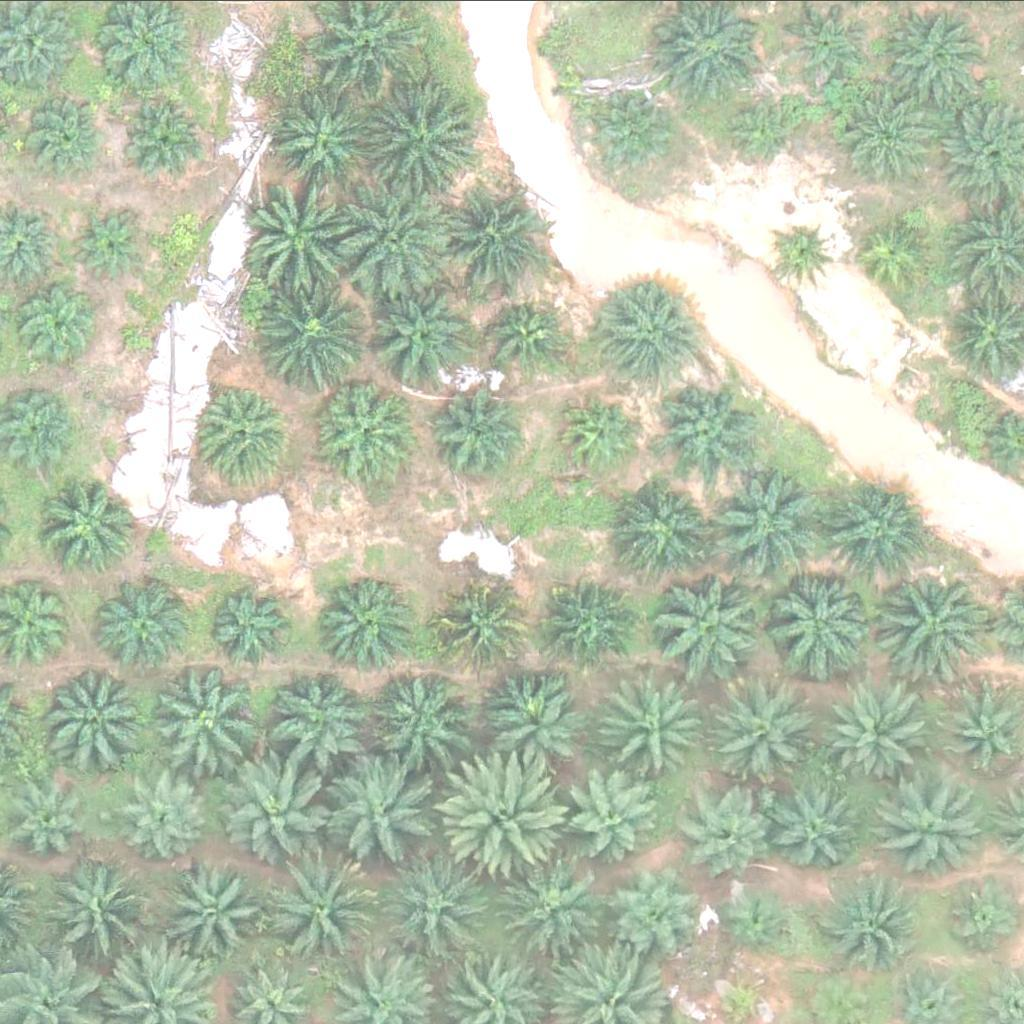Kelapa_Sawit: (441, 747, 567, 872), (365, 85, 479, 198), (319, 757, 433, 870), (48, 856, 162, 969), (707, 468, 820, 581), (651, 567, 764, 680), (762, 563, 875, 676), (267, 855, 380, 968), (379, 851, 492, 964), (261, 278, 374, 391), (150, 663, 263, 776), (225, 750, 338, 863), (35, 658, 149, 770), (340, 178, 453, 290), (874, 565, 987, 677), (244, 179, 357, 291), (370, 290, 471, 390), (890, 7, 991, 107), (828, 482, 929, 582), (312, 570, 413, 670), (371, 663, 472, 763), (608, 677, 709, 777), (720, 682, 821, 782), (828, 686, 929, 786), (500, 860, 601, 960), (601, 858, 702, 958), (271, 91, 372, 191), (42, 475, 143, 575), (164, 857, 265, 957), (815, 867, 916, 967), (445, 192, 545, 292), (605, 282, 705, 382), (838, 84, 938, 184), (313, 379, 413, 479), (658, 376, 758, 476), (278, 668, 378, 768), (478, 678, 578, 778), (880, 775, 980, 875), (198, 381, 298, 481), (98, 573, 198, 673), (592, 91, 680, 179), (430, 394, 518, 482), (625, 483, 713, 571), (436, 583, 524, 671), (688, 790, 776, 878), (125, 93, 213, 181), (205, 584, 293, 672), (775, 788, 864, 875), (544, 581, 632, 668), (568, 773, 656, 860), (11, 276, 99, 363), (15, 96, 103, 183), (19, 772, 107, 859), (124, 767, 212, 854), (721, 884, 797, 959), (68, 205, 144, 280), (561, 395, 637, 470), (943, 877, 1018, 952), (487, 300, 562, 375), (723, 92, 798, 167), (861, 216, 936, 291), (774, 219, 837, 282)
